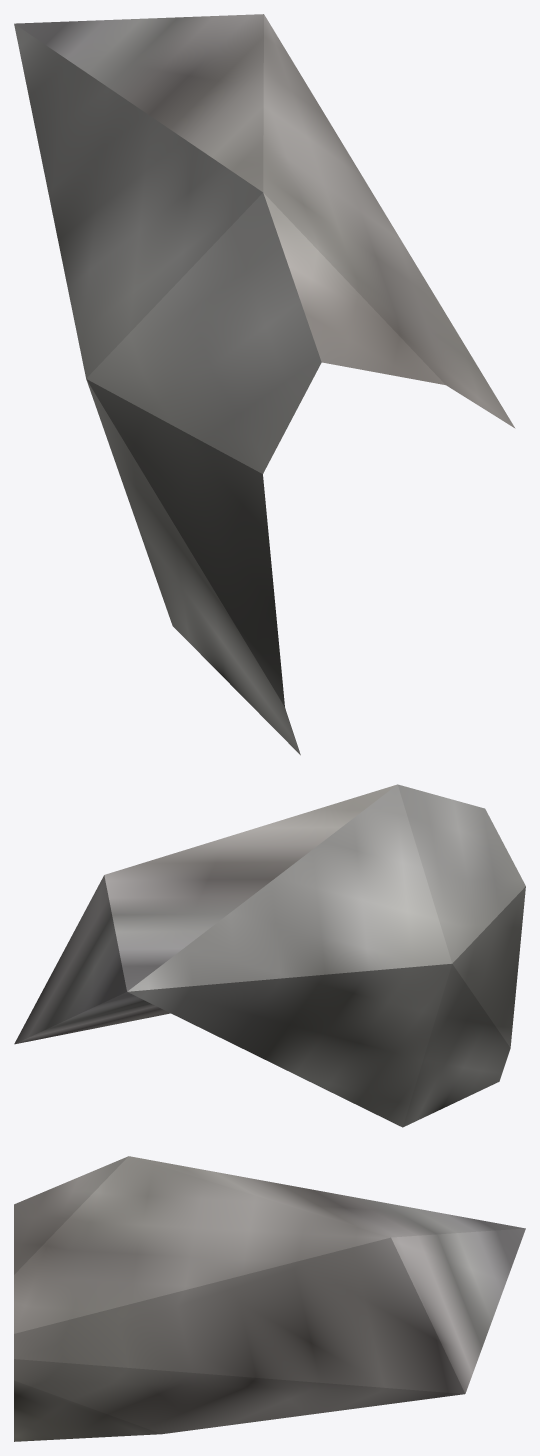
3 renders of one model, top to bottom at view 1: azimuth 30°, elevation 25°; view 2: azimuth 150°, elevation 25°; view 3: azimuth 270°, elevation 25°, orthographic. The views are drawn at different scales.
Size of the model in its own units: 0.0203 by 0.0228 by 0.0353.
1 material, 1 textured.
